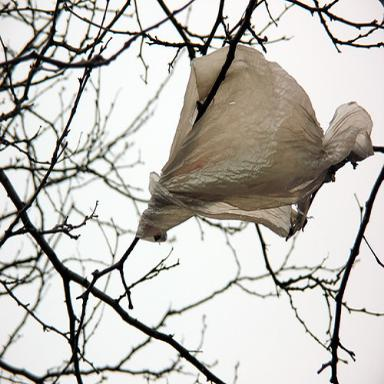plasticbag: (134, 44, 374, 242)
